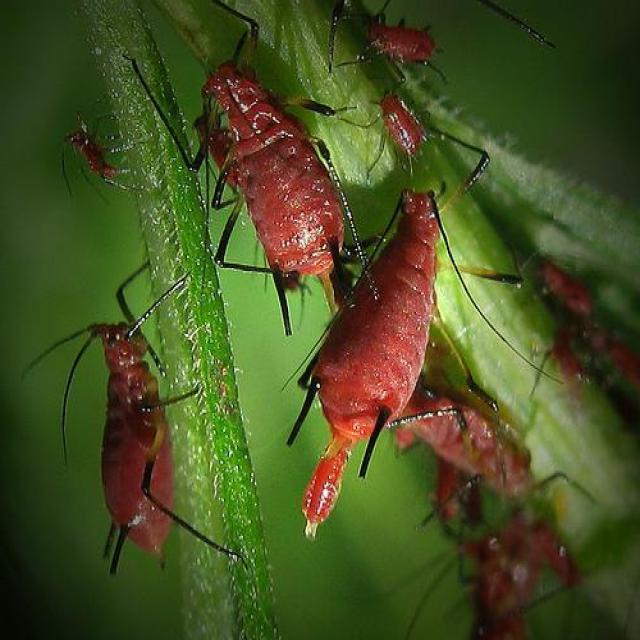aphid: (27, 234, 246, 582), (289, 195, 492, 536), (172, 54, 372, 327)
